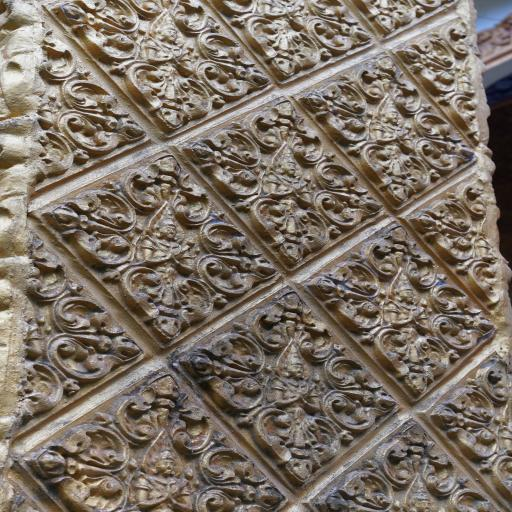la: (46, 291, 151, 389), (95, 266, 230, 338), (37, 419, 130, 512), (46, 190, 144, 271), (358, 422, 466, 495), (105, 379, 224, 443), (255, 402, 350, 480), (169, 336, 265, 409), (234, 286, 332, 357), (113, 156, 215, 224), (52, 76, 142, 152), (182, 120, 265, 202), (197, 219, 283, 296), (240, 196, 328, 267), (324, 350, 399, 432), (186, 448, 282, 512), (120, 66, 218, 124), (302, 256, 376, 332), (371, 330, 456, 396), (51, 0, 135, 65), (305, 156, 380, 228), (243, 99, 331, 158), (425, 282, 498, 352), (348, 142, 437, 199), (194, 32, 270, 98), (302, 77, 370, 146), (430, 390, 498, 459), (410, 104, 473, 177), (356, 54, 430, 115), (246, 12, 312, 79), (358, 221, 429, 281), (399, 39, 464, 97), (412, 197, 475, 256), (455, 253, 512, 309), (320, 469, 391, 512), (125, 2, 215, 34), (310, 0, 362, 55), (358, 0, 415, 37), (470, 358, 512, 398)
than: (124, 424, 200, 512), (129, 198, 197, 280), (128, 8, 204, 75), (268, 334, 326, 420), (371, 262, 437, 336), (250, 137, 318, 206), (358, 97, 413, 154), (387, 471, 442, 512), (481, 398, 512, 460), (262, 0, 312, 30)
